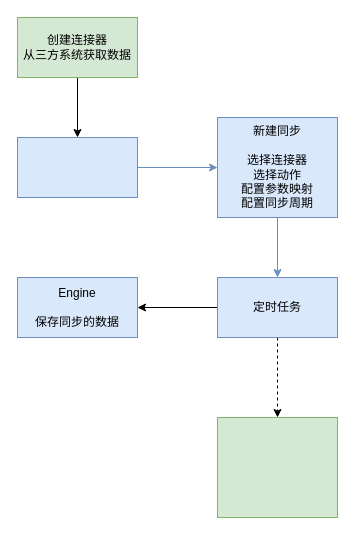
This 355x535 diagram has some shape labels left out. Here are the shapes that lost their labels. From the top down, the centre of each, then its label:
At (77,167): "云枢 模型 氚云 表单 有格 表格".
At (277,467): "同步数据接口 执行动作 获取数据 按照映射转换 返回数据".
